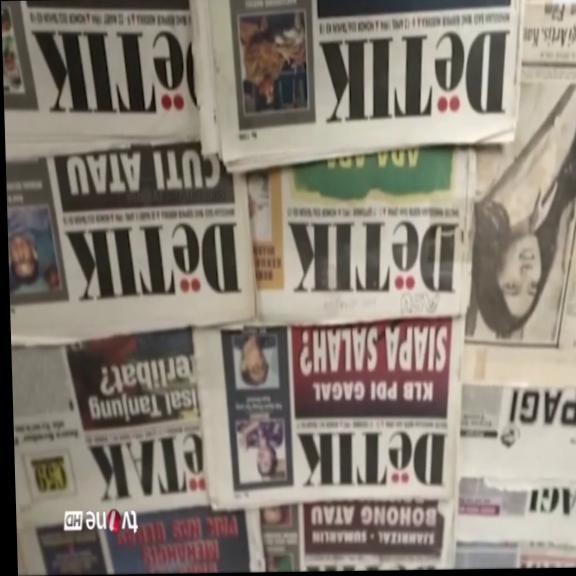Kertas: (16, 329, 256, 572), (197, 0, 525, 175), (9, 137, 259, 347), (202, 315, 467, 511), (444, 10, 576, 389), (245, 145, 479, 326), (4, 0, 206, 151)
